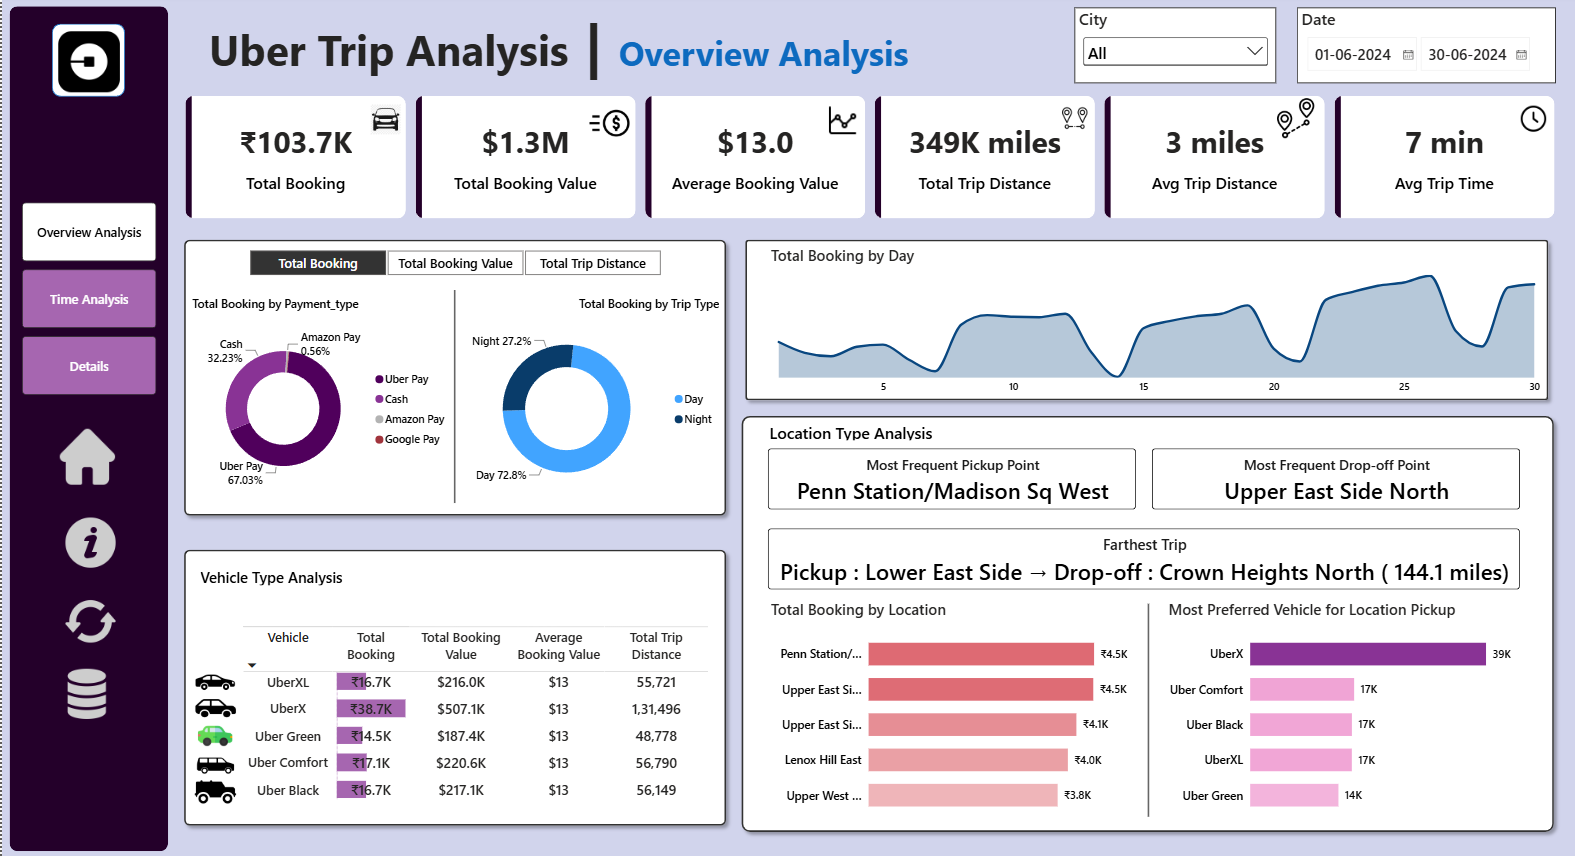

This screenshot's page, from the dashboard's own definition file:
{"tool":"powerbi","page":{"name":"Overview Analysis","canvas":[1980,1080],"ordinal":0},"visuals":[{"type":"shape","box":[63,30.6,91.7,91.7],"z":0,"group":"g1"},{"type":"shape","box":[920.9,514.4,1039.6,541.4],"z":0},{"type":"shape","box":[9,7.2,199.7,1063],"z":1000},{"type":"image","box":[70.2,37.8,77.3,80],"z":1000,"group":"g1"},{"type":"cardVisual","fields":{"Data":["Trip Details.Most Frequent Pickup Point","Trip Details.Most Frequent Drop-off Point"]},"box":[946.1,546.8,980.3,111.5],"z":2000},{"type":"slicer","title":"City","fields":{"Values":["Location Table.City"]},"box":[1349,9,253.6,95.3],"z":3000},{"type":"cardVisual","fields":{"Data":["Trip Details.Farthest Trip"]},"box":[946.1,647.8,980.3,111.5],"z":4000},{"type":"slicer","title":"Date","fields":{"Values":["Calendar.Date"]},"box":[1629.6,9,325.6,95.3],"z":5000},{"type":"textbox","box":[219.4,0,960.5,129.5],"z":6000},{"type":"cardVisual","fields":{"Data":["Trip Details.Total Booking","Trip Details.Total Booking Value","Trip Details.Average Booking Value","Trip Details.Total Trip Distance","Trip Details.Avg Trip Distance","Trip Details.Avg Trip Time"]},"box":[214,104.3,1760.9,188.9],"z":7000},{"type":"shape","box":[219.4,293.2,699.7,365.1],"z":8000},{"type":"slicer","fields":{"Values":["Dynamic Messure .Dynamic Messure "]},"box":[286,307.6,566.6,45],"z":9000},{"type":"donutChart","fields":{"Y":["Trip Details.Total Booking"],"Category":["Trip Details.Payment_type"]},"box":[233.8,370.5,336.4,266.2],"z":10000},{"type":"donutChart","fields":{"Y":["Trip Details.Total Booking"],"Category":["Trip Details.Trip Type"]},"box":[570.2,370.5,336.4,266.2],"z":11000},{"type":"shape","box":[219.4,681.7,699.7,365.1],"z":12000},{"type":"pivotTable","fields":{"Rows":["Trip Details.Vehicle"],"Values":["Trip Details.Total Booking","Trip Details.Total Booking Value","Trip Details.Average Booking Value","Trip Details.Total Trip Distance New"]},"box":[298.6,782.4,609.8,244.6],"z":13000},{"type":"image","box":[217.5,831,102.5,55.8],"z":14000},{"type":"image","box":[224.7,865.2,88.1,52.2],"z":15000},{"type":"image","box":[222,904.7,93.5,43.2],"z":16000},{"type":"image","box":[223.8,937.1,89.9,52.2],"z":17000},{"type":"image","box":[223.8,969.5,89.9,52.2],"z":18000},{"type":"cardVisual","fields":{"Data":["Trip Details.Title"]},"box":[214,696.1,250,57.6],"z":19000},{"type":"image","box":[739.3,129.5,50.4,52.2],"z":20000},{"type":"image","box":[1037.8,129.5,39.6,45],"z":21000},{"type":"image","box":[1332.8,129.5,32.4,39.6],"z":22000},{"type":"image","box":[1604.4,122.3,50.4,52.2],"z":23000},{"type":"image","box":[1910.2,131.3,32.4,37.8],"z":24000},{"type":"image","box":[464.1,125.9,37.8,48.6],"z":25000},{"type":"shape","box":[926.3,293.2,1028,220],"z":26000},{"type":"areaChart","fields":{"Category":["Calendar.Day"],"Y":["Trip Details.Total Booking"]},"box":[962.3,307.6,980.3,196.1],"z":27000},{"type":"barChart","fields":{"Category":["Location Table.Location"],"Y":["Trip Details.Total Booking"]},"box":[962.3,753.7,458.7,286],"z":28000},{"type":"barChart","title":"Most Preferred Vehicle for Location Pickup","fields":{"Category":["Trip Details.Vehicle"],"Y":["CountNonNull(Trip Details.PULocationID)"]},"box":[1462.3,753.7,440.7,286],"z":29000},{"type":"shape","box":[548.6,365.1,41.4,268],"z":30000},{"type":"shape","box":[1421,759.1,41.4,268],"z":31000},{"type":"cardVisual","fields":{"Data":["Trip Details.Title for Location"]},"box":[920.9,514.4,293.2,57.6],"z":32000},{"type":"group","id":"g1","title":"Group 1","box":[63,30.6,91.7,91.7],"z":33000},{"type":"pageNavigator","box":[25.2,255.4,169.1,244.6],"z":34000},{"type":"image","box":[54,539.6,107.9,70.1],"z":35000},{"type":"image","box":[57.6,651.1,106.1,63],"z":36000},{"type":"image","box":[57.6,750.1,106.1,63],"z":37000},{"type":"image","box":[54,841.8,106.1,63],"z":38000}]}

Visuals, with their boxes in screenshot pixels (x1, y1, x2, y2), scaled from the page's 1980x1080 canvas onto the 1575x856 screenshot:
shape: 50, 24, 123, 97
shape: 733, 408, 1559, 837
shape: 7, 6, 166, 848
image: 56, 30, 117, 93
cardVisual - Trip Details.Most Frequent Pickup Point x Trip Details.Most Frequent Drop-off Point: 753, 433, 1532, 522
"City" slicer: 1073, 7, 1275, 83
cardVisual - Trip Details.Farthest Trip: 753, 513, 1532, 602
"Date" slicer: 1296, 7, 1555, 83
textbox: 175, 0, 939, 103
cardVisual - Trip Details.Total Booking x Trip Details.Total Booking Value: 170, 83, 1571, 232
shape: 175, 232, 731, 522
slicer - Dynamic Messure .Dynamic Messure : 228, 244, 678, 279
donutChart - Trip Details.Total Booking x Trip Details.Payment_type: 186, 294, 454, 505
donutChart - Trip Details.Total Booking x Trip Details.Trip Type: 454, 294, 721, 505
shape: 175, 540, 731, 830
pivotTable - Trip Details.Vehicle x Trip Details.Total Booking: 238, 620, 723, 814
image: 173, 659, 255, 703
image: 179, 686, 249, 727
image: 177, 717, 251, 751
image: 178, 743, 250, 784
image: 178, 768, 250, 810
cardVisual - Trip Details.Title: 170, 552, 369, 597
image: 588, 103, 628, 144
image: 826, 103, 857, 138
image: 1060, 103, 1086, 134
image: 1276, 97, 1316, 138
image: 1519, 104, 1545, 134
image: 369, 100, 399, 138
shape: 737, 232, 1555, 407
areaChart - Calendar.Day x Trip Details.Total Booking: 765, 244, 1545, 399
barChart - Location Table.Location x Trip Details.Total Booking: 765, 597, 1130, 824
"Most Preferred Vehicle for Location Pickup" barChart: 1163, 597, 1514, 824
shape: 436, 289, 469, 502
shape: 1130, 602, 1163, 814
cardVisual - Trip Details.Title for Location: 733, 408, 966, 453
"Group 1" group: 50, 24, 123, 97
pageNavigator: 20, 202, 155, 396
image: 43, 428, 129, 483
image: 46, 516, 130, 566
image: 46, 595, 130, 644
image: 43, 667, 127, 717
